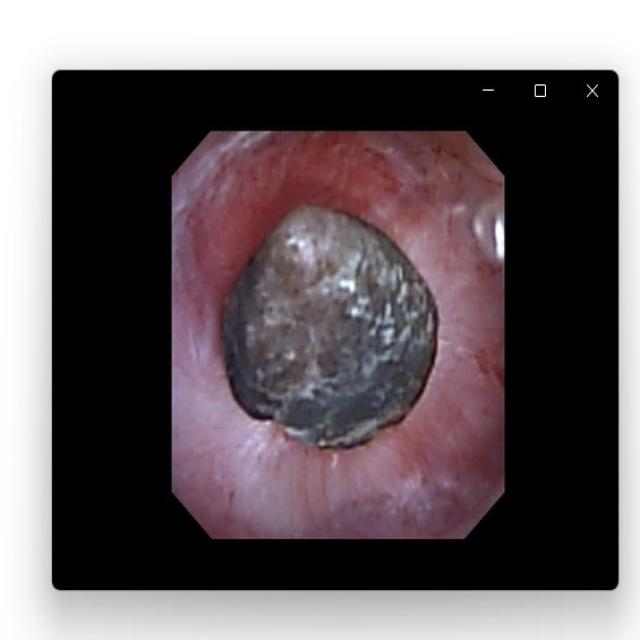stone: (220, 206, 433, 445)
tissue: (177, 136, 495, 532)
